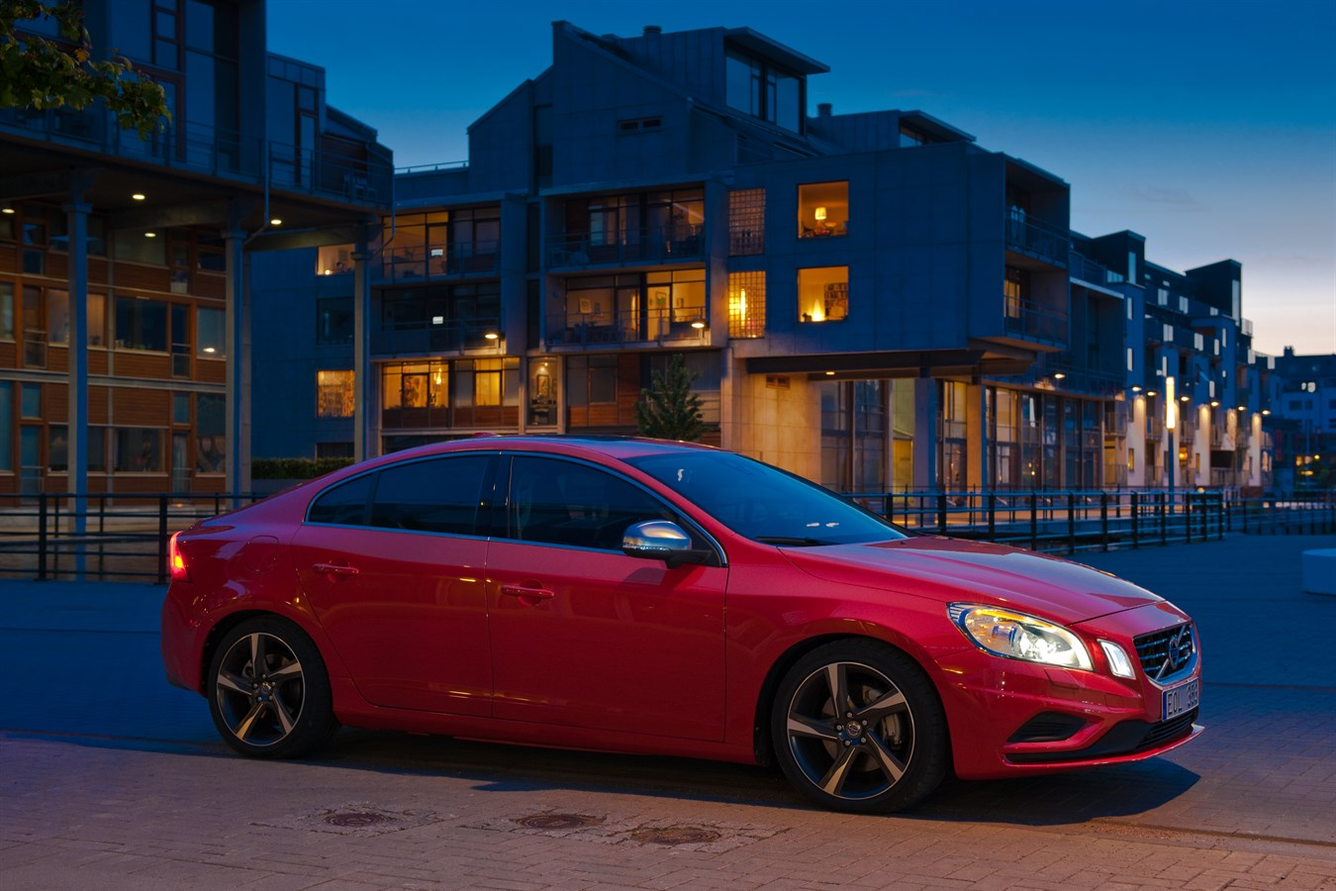other: (154, 429, 1205, 820)
